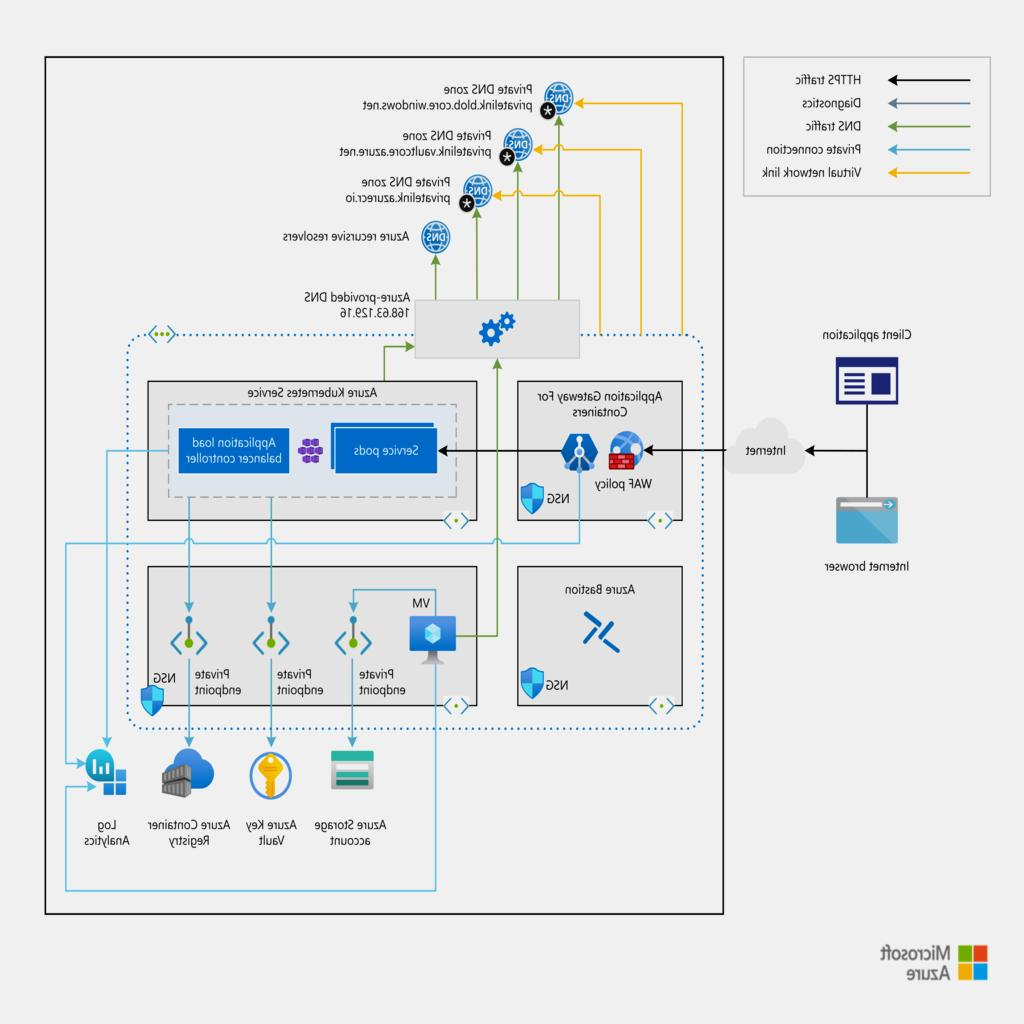actor: (836, 356, 899, 402), (836, 499, 899, 545)
api_gateway: (564, 428, 600, 474)
compute: (179, 428, 290, 474), (332, 428, 438, 474), (409, 612, 455, 658)
data_flow: (432, 635, 438, 911), (680, 74, 686, 332), (598, 74, 604, 332), (497, 327, 502, 636), (104, 497, 109, 773), (640, 74, 644, 332), (269, 450, 274, 634), (232, 450, 237, 634), (187, 450, 192, 634), (558, 110, 562, 296), (728, 448, 847, 453), (450, 448, 564, 453), (865, 394, 870, 507), (351, 658, 356, 735), (269, 658, 274, 735), (187, 658, 192, 735), (410, 632, 460, 638)
database_storage: (163, 750, 216, 796), (330, 750, 376, 796), (248, 750, 294, 796), (85, 750, 128, 796)
network_security: (608, 428, 644, 474), (338, 612, 369, 658), (256, 612, 287, 658), (174, 612, 205, 658), (525, 660, 556, 702), (525, 476, 556, 517), (138, 676, 169, 717)
trust_boundary: (126, 334, 705, 728), (148, 382, 478, 520), (148, 566, 478, 704), (518, 382, 684, 520), (518, 566, 684, 704)
